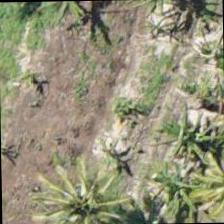Kelapa_Sawit: (44, 164, 136, 223)
